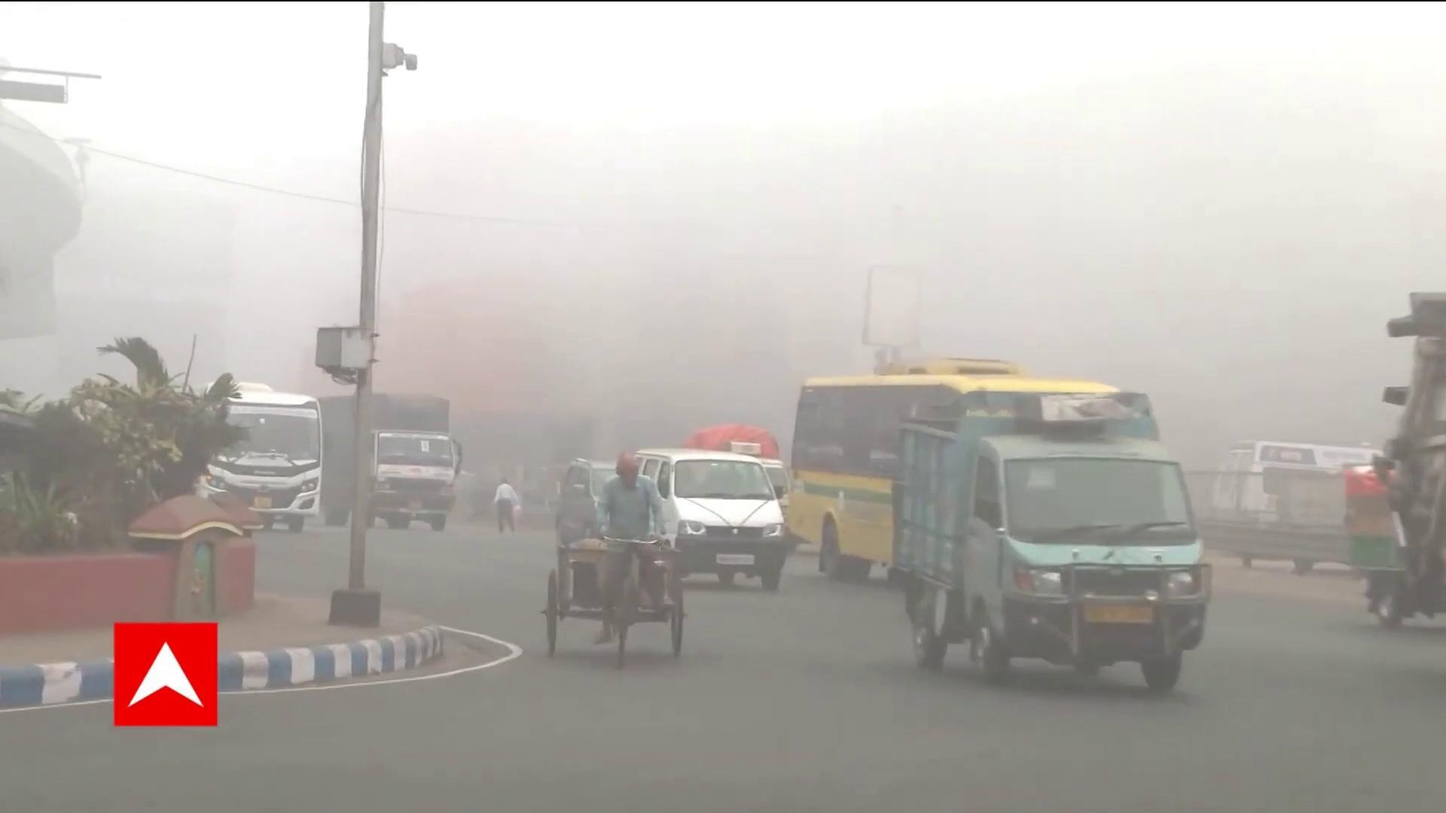Bus: (785, 360, 1108, 573), (192, 381, 326, 531)
Car: (642, 442, 788, 586)
Truck: (888, 393, 1212, 688), (322, 382, 460, 537)
